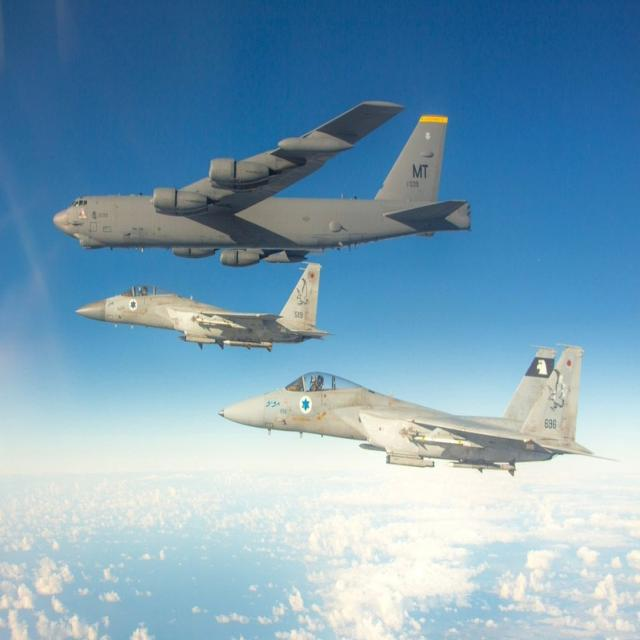B52: (51, 86, 487, 269), (225, 304, 634, 496), (60, 263, 368, 362)
